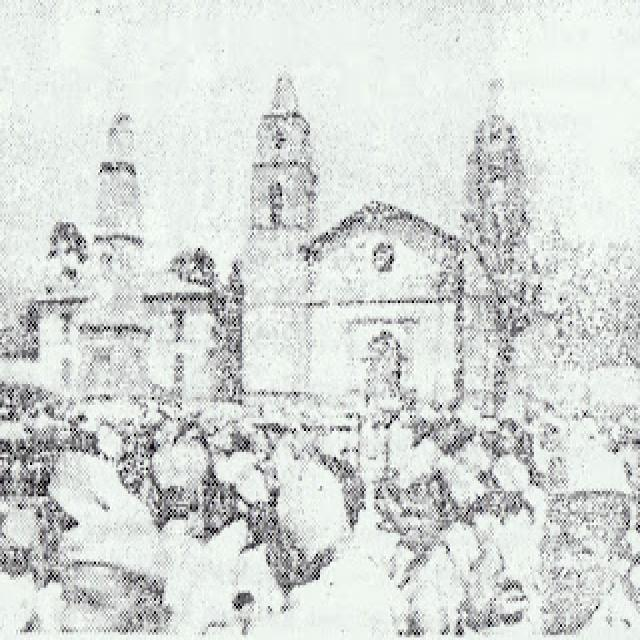CAMPANARIO: (253, 147, 314, 234)
CUPULA: (255, 89, 312, 140)
PORTADA CENTRAL: (352, 318, 414, 412)
SIMETRIA COLONIAL: (230, 46, 558, 434)
TORRES: (242, 68, 323, 422), (469, 76, 537, 426)
colonial-architecture-: (0, 0, 572, 440)
